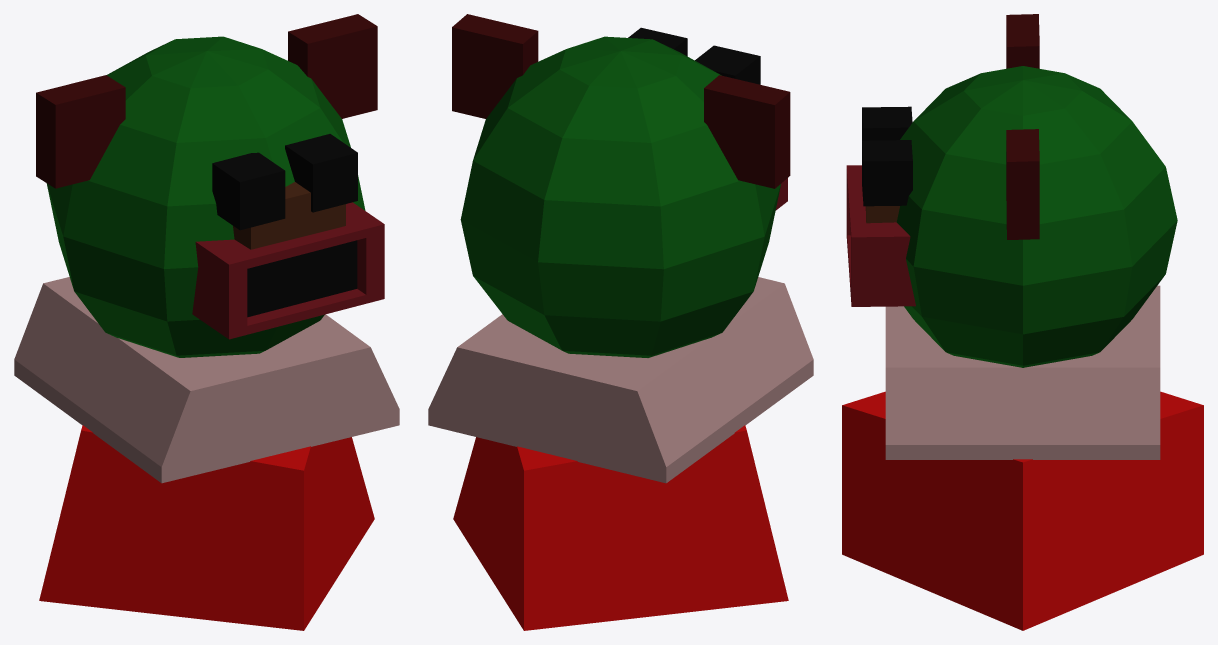
Rendered from Enemy_With_Animation.glb.
The picture shows the model from 3 angles, left to right: view 1: azimuth 30°, elevation 25°; view 2: azimuth 150°, elevation 25°; view 3: azimuth 270°, elevation 25°; orthographic projection. The views are drawn at different scales.
Parts seen in each view (by area): view 1: Head1, Legs1, Body1, Mouth, Left_Ear, Left_Ear1, Left_Eye, Left_Eye1, Nose; view 2: Head1, Legs1, Body1, Left_Ear, Left_Ear1, Left_Eye, Left_Eye1; view 3: Head1, Legs1, Body1, Mouth, Left_Ear1, Left_Eye1, Left_Ear, Left_Eye, Nose.
Boxes of the visible parts, x1,y1,x2,y2 form: Head1: (46, 36, 365, 357); Legs1: (39, 425, 374, 630); Body1: (14, 277, 399, 483); Mouth: (192, 202, 384, 339); Left_Ear: (36, 75, 125, 188); Left_Ear1: (288, 14, 377, 118); Left_Eye: (212, 152, 285, 230); Left_Eye1: (285, 134, 357, 212); Nose: (233, 182, 345, 249); Head1: (460, 36, 780, 357); Legs1: (453, 425, 788, 630); Body1: (428, 277, 813, 483); Left_Ear: (704, 75, 790, 188); Left_Ear1: (452, 14, 538, 118); Left_Eye: (695, 45, 760, 84); Left_Eye1: (628, 27, 687, 56); Head1: (896, 66, 1177, 367); Legs1: (842, 391, 1203, 630); Body1: (885, 285, 1160, 459); Mouth: (846, 165, 915, 306); Left_Ear1: (1006, 129, 1039, 239); Left_Eye1: (862, 140, 912, 206); Left_Ear: (1006, 14, 1039, 68); Left_Eye: (862, 106, 912, 140); Nose: (865, 206, 899, 223).
Bounding box in the file's own units: 0.08 × 0.1159 × 0.0801.
